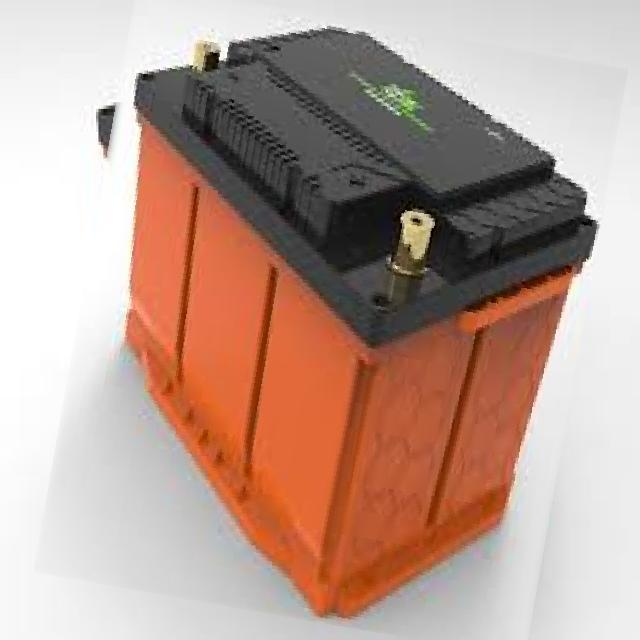Battery: (94, 6, 600, 620)
